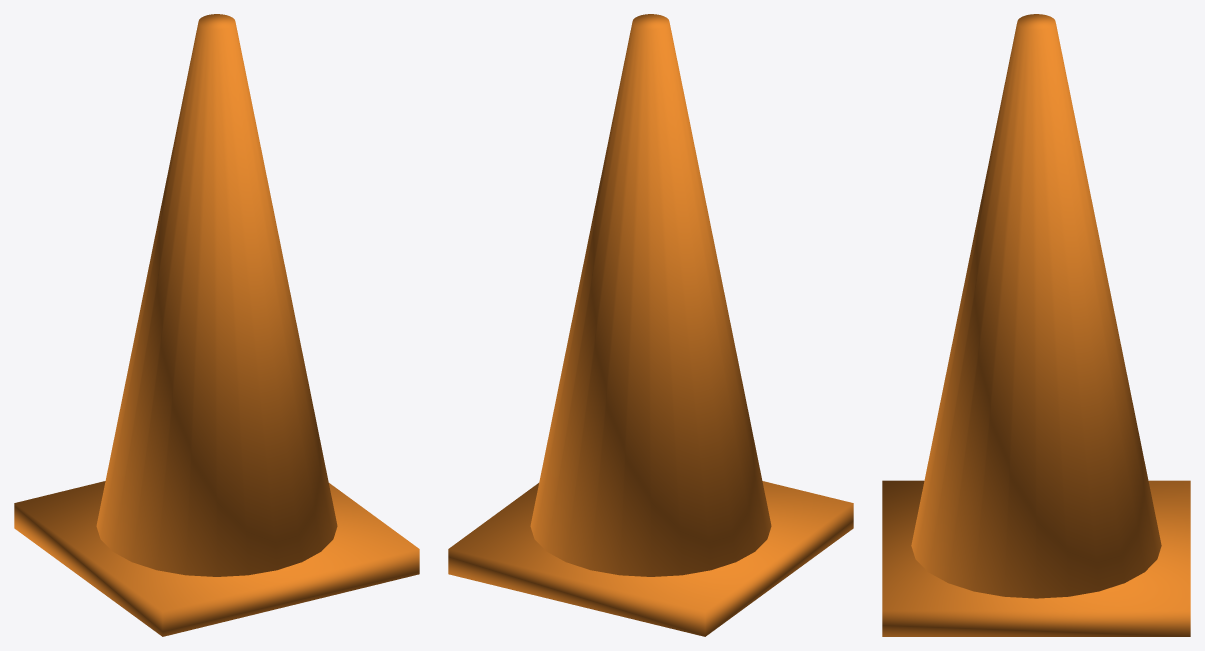
File: traffic_cone.glb
The picture shows the model from 3 angles, left to right: view 1: azimuth 30°, elevation 25°; view 2: azimuth 150°, elevation 25°; view 3: azimuth 270°, elevation 25°; orthographic projection. The views are drawn at different scales.
Parts seen in each view (by area): view 1: traffic_cone; view 2: traffic_cone; view 3: traffic_cone.
Boxes of the visible parts, x1,y1,x2,y2 form: traffic_cone: (14, 14, 419, 636); traffic_cone: (448, 14, 853, 636); traffic_cone: (882, 14, 1190, 636).
Size of the model in its own units: 0.32 by 0.63 by 0.32.
